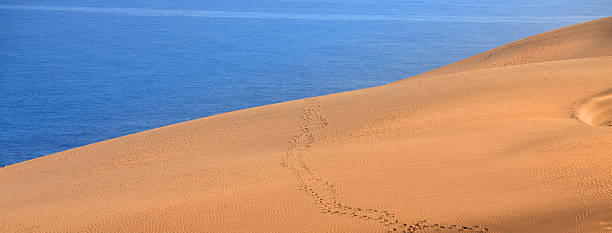human_footprint: (283, 108, 495, 232)
